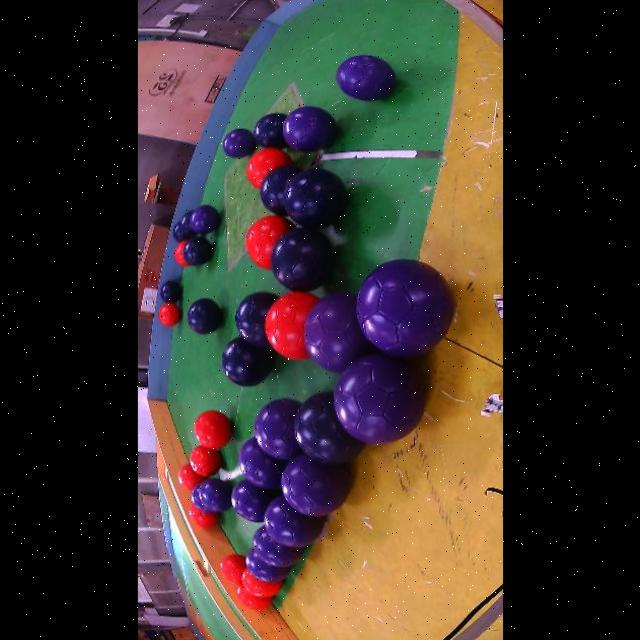B: (292, 392, 363, 464), (269, 228, 333, 292), (282, 168, 345, 229), (220, 337, 273, 387), (234, 292, 277, 349), (258, 166, 300, 217), (185, 298, 221, 335), (251, 113, 286, 149), (182, 237, 211, 266), (159, 281, 180, 303), (178, 210, 194, 237), (170, 222, 187, 242)
P: (354, 260, 451, 358), (331, 354, 424, 444), (302, 293, 375, 373), (279, 454, 350, 516), (262, 496, 323, 548), (253, 398, 300, 460), (334, 55, 394, 101), (236, 438, 286, 488), (281, 106, 335, 152), (230, 479, 278, 523), (251, 526, 302, 567), (244, 548, 289, 582), (197, 478, 230, 513), (221, 129, 254, 158), (188, 205, 218, 234), (189, 484, 212, 514)
R: (263, 292, 316, 360), (244, 215, 293, 270), (245, 148, 291, 189), (192, 411, 230, 449), (240, 568, 280, 598), (188, 445, 220, 477), (235, 585, 270, 610), (218, 554, 244, 584), (177, 464, 204, 491), (187, 504, 217, 528), (156, 303, 179, 327), (173, 239, 188, 266)
